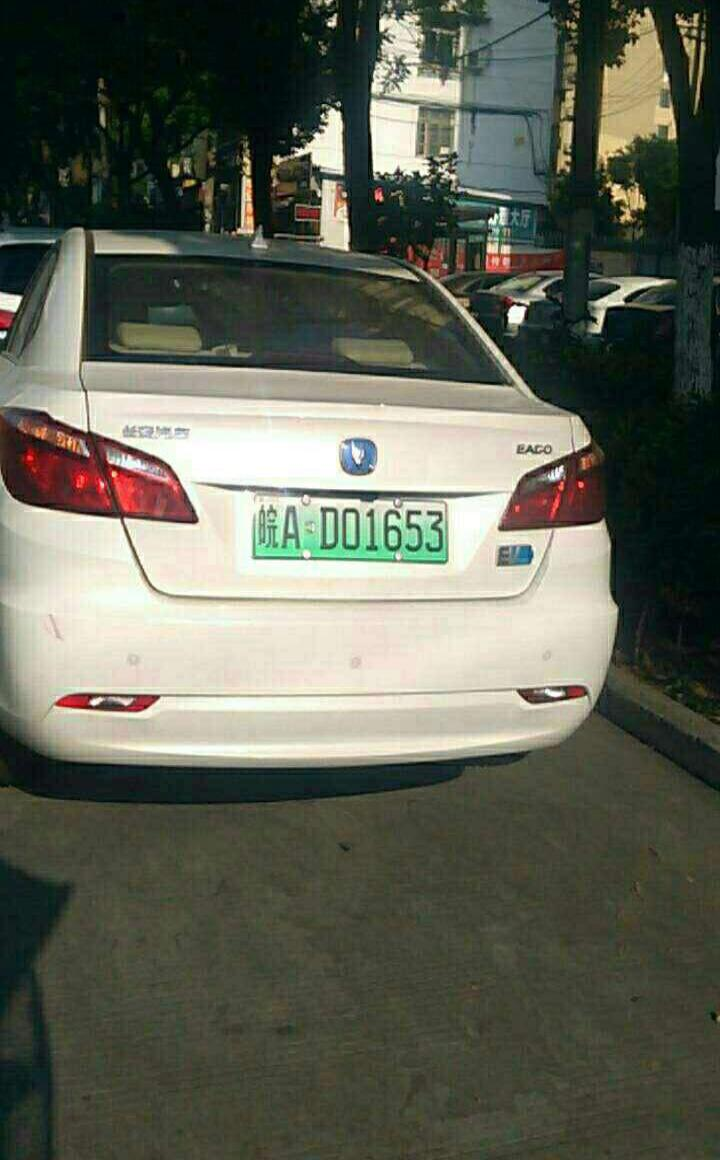car_id: (257, 485, 458, 566)
